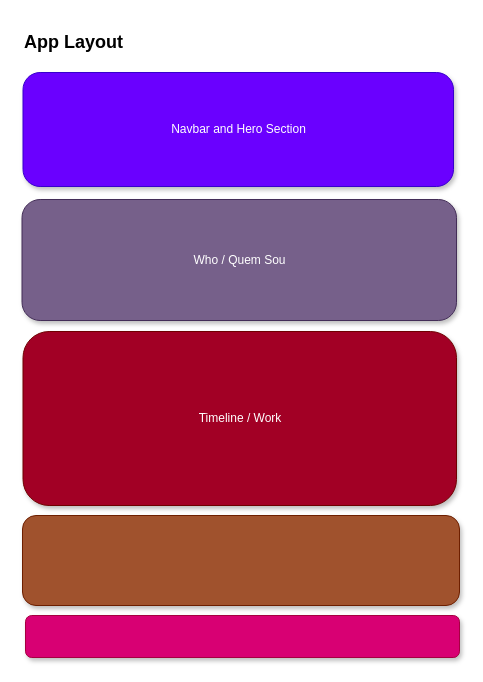
Image size: 483x682. Some labels were removed from this diagram. The centre of each missing label's shape, as x and y in pixels:
"Contact" goes at point (242, 561).
"Footer" goes at point (243, 637).
